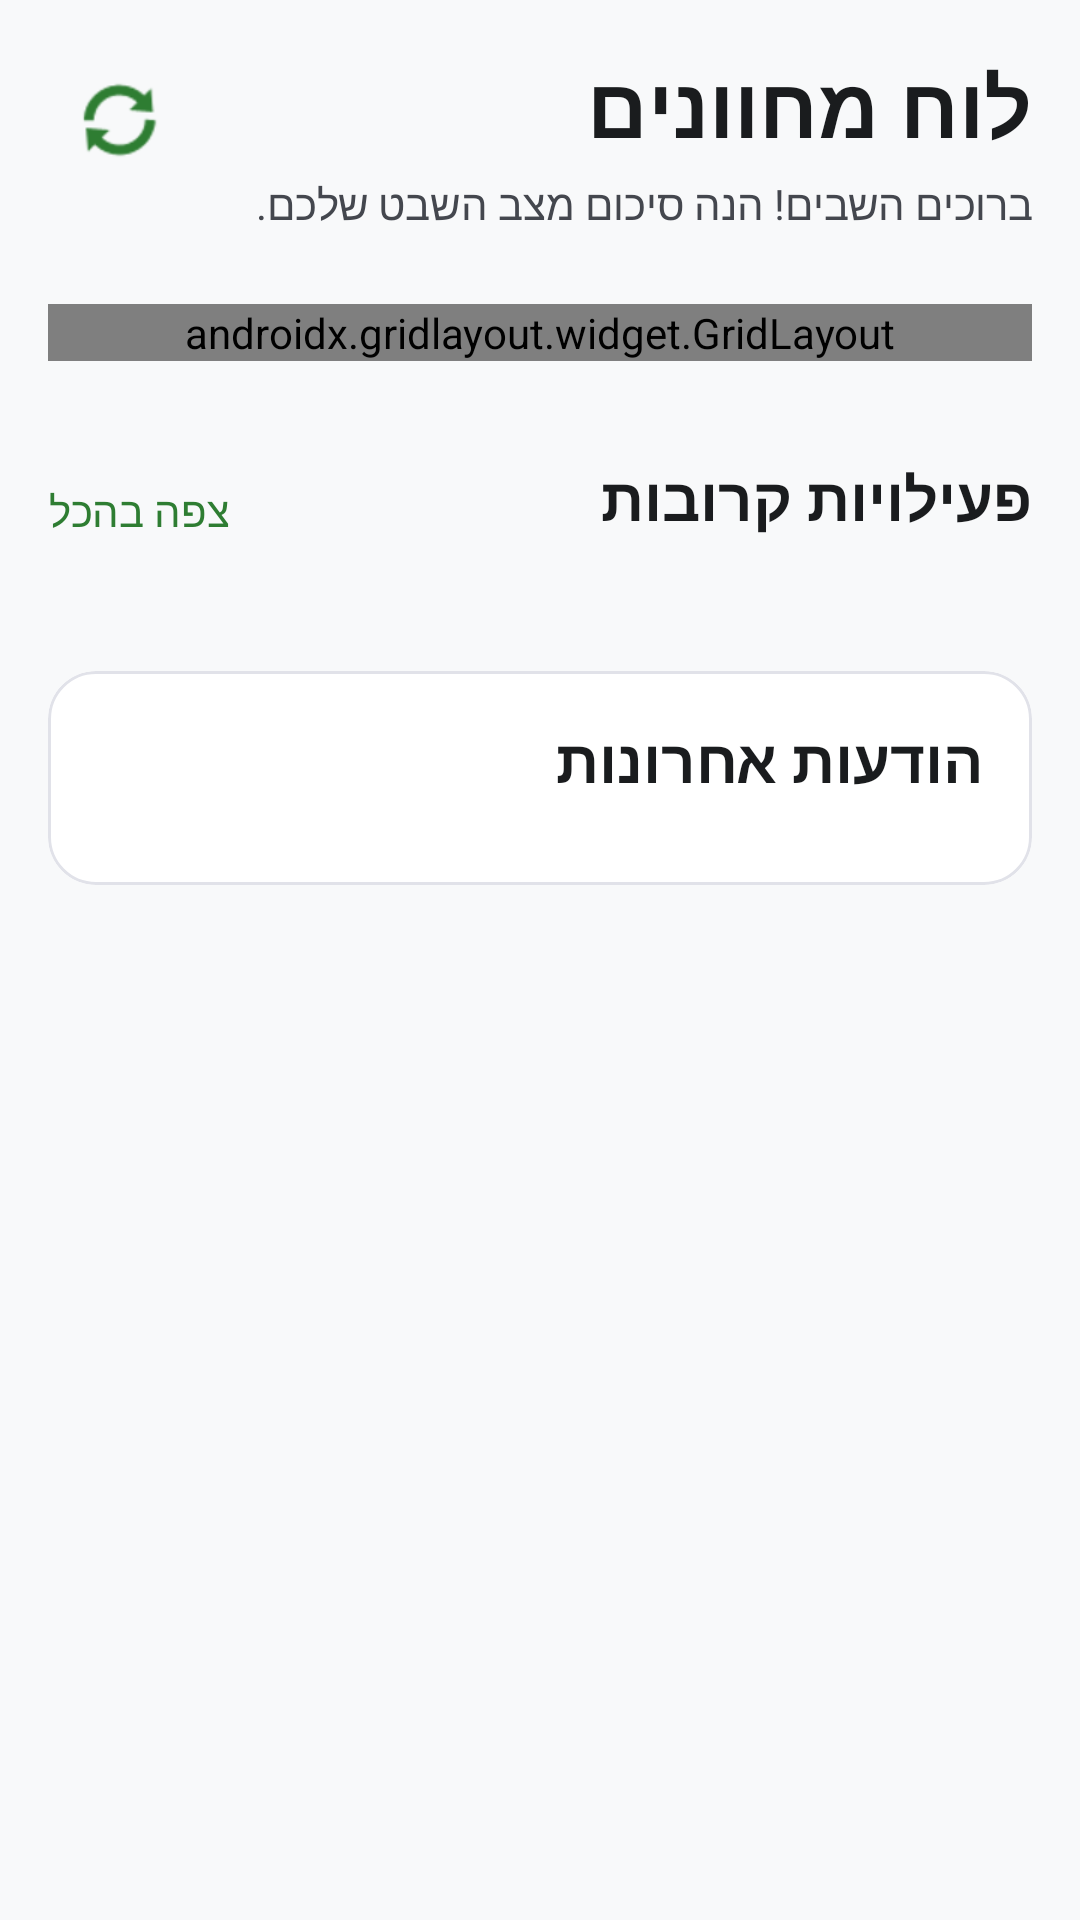

Icon bounding boxes for this 1080x1920 phone screenshot, format [left=x1, top=y1, right=x2, bottom=y2]:
popup sync: [left=83, top=84, right=157, bottom=156]
